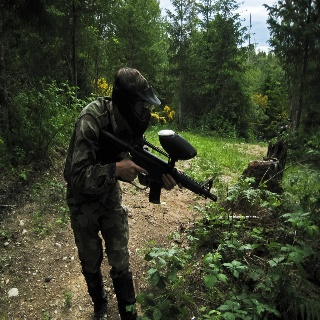rifle: (96, 125, 219, 207)
